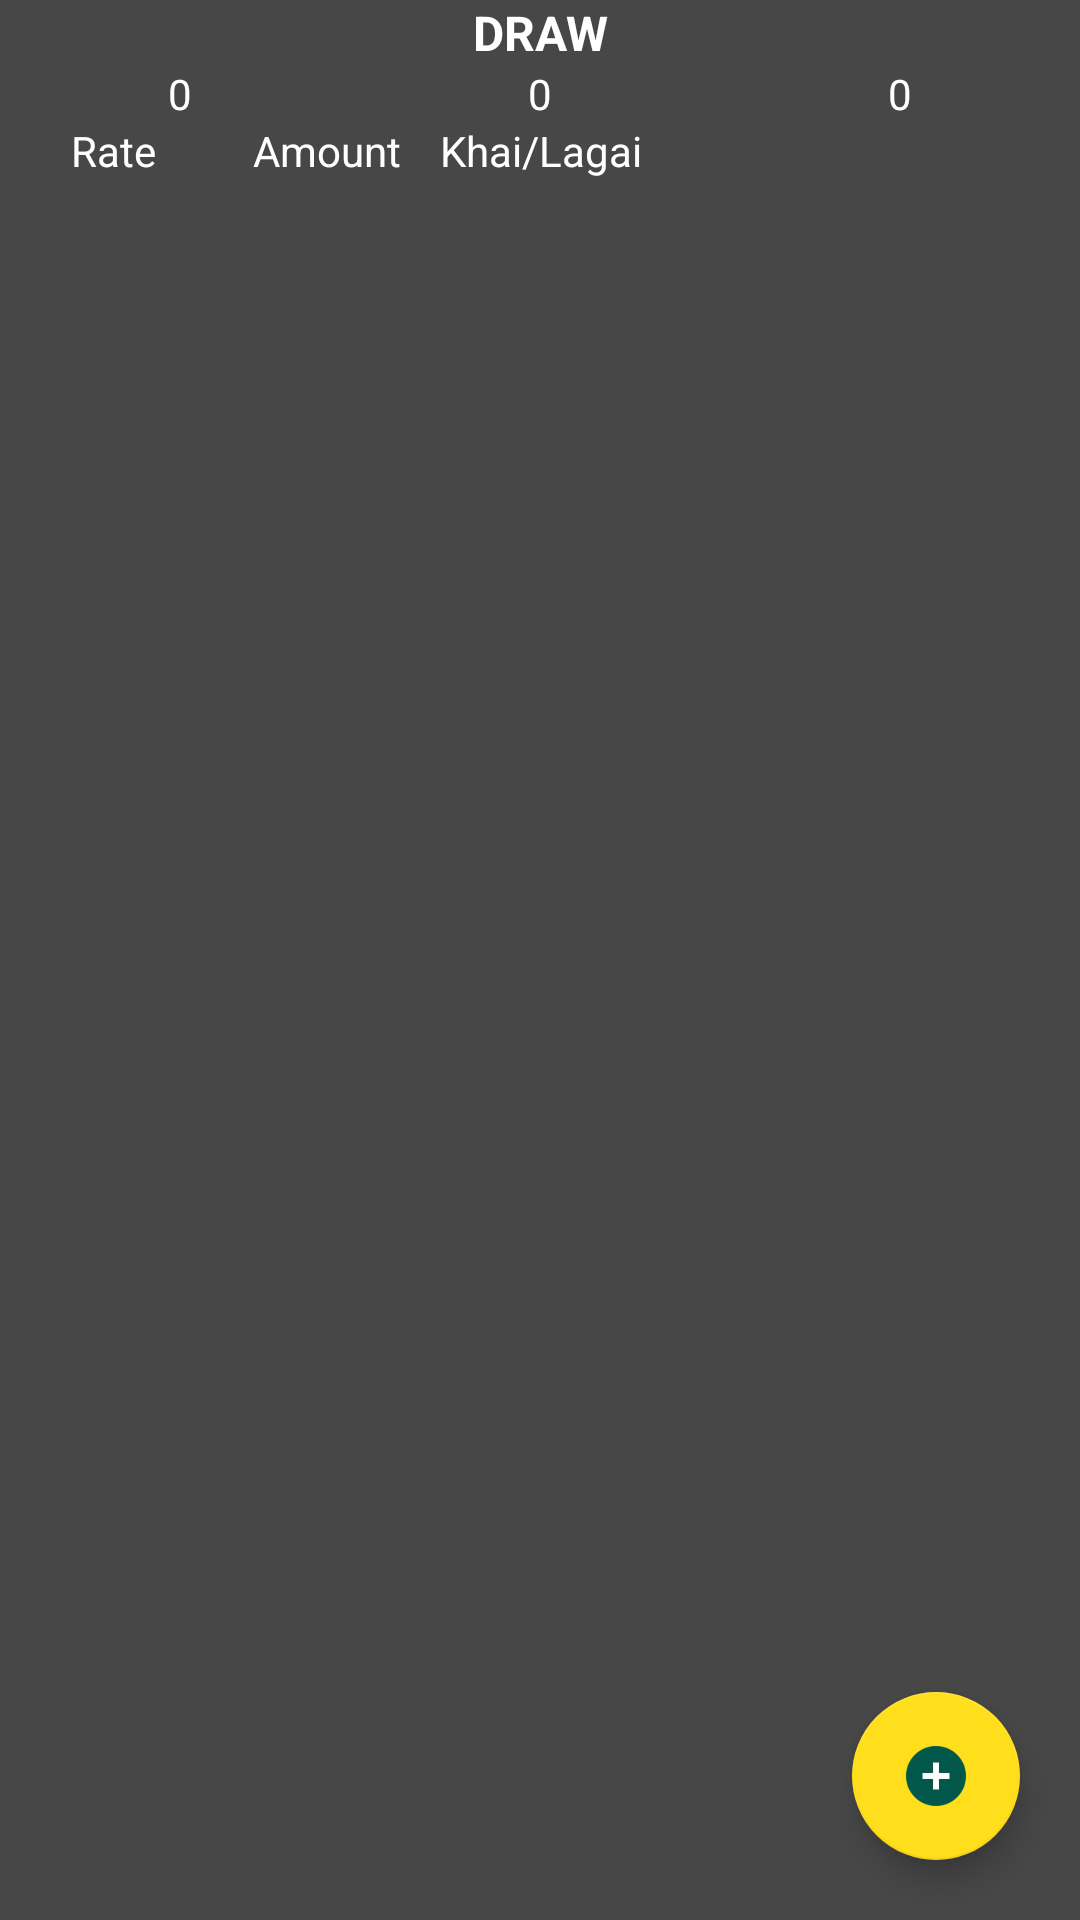

Screen size 1080px×1920px. Icon name, then its center in pixels as (x=x, y=y):
addnew: (x=936, y=1776)
